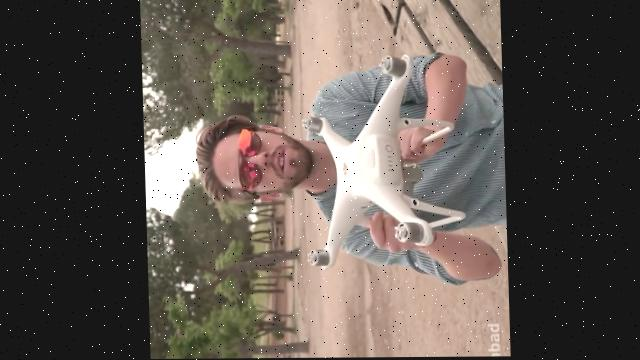drone: (298, 53, 466, 271)
